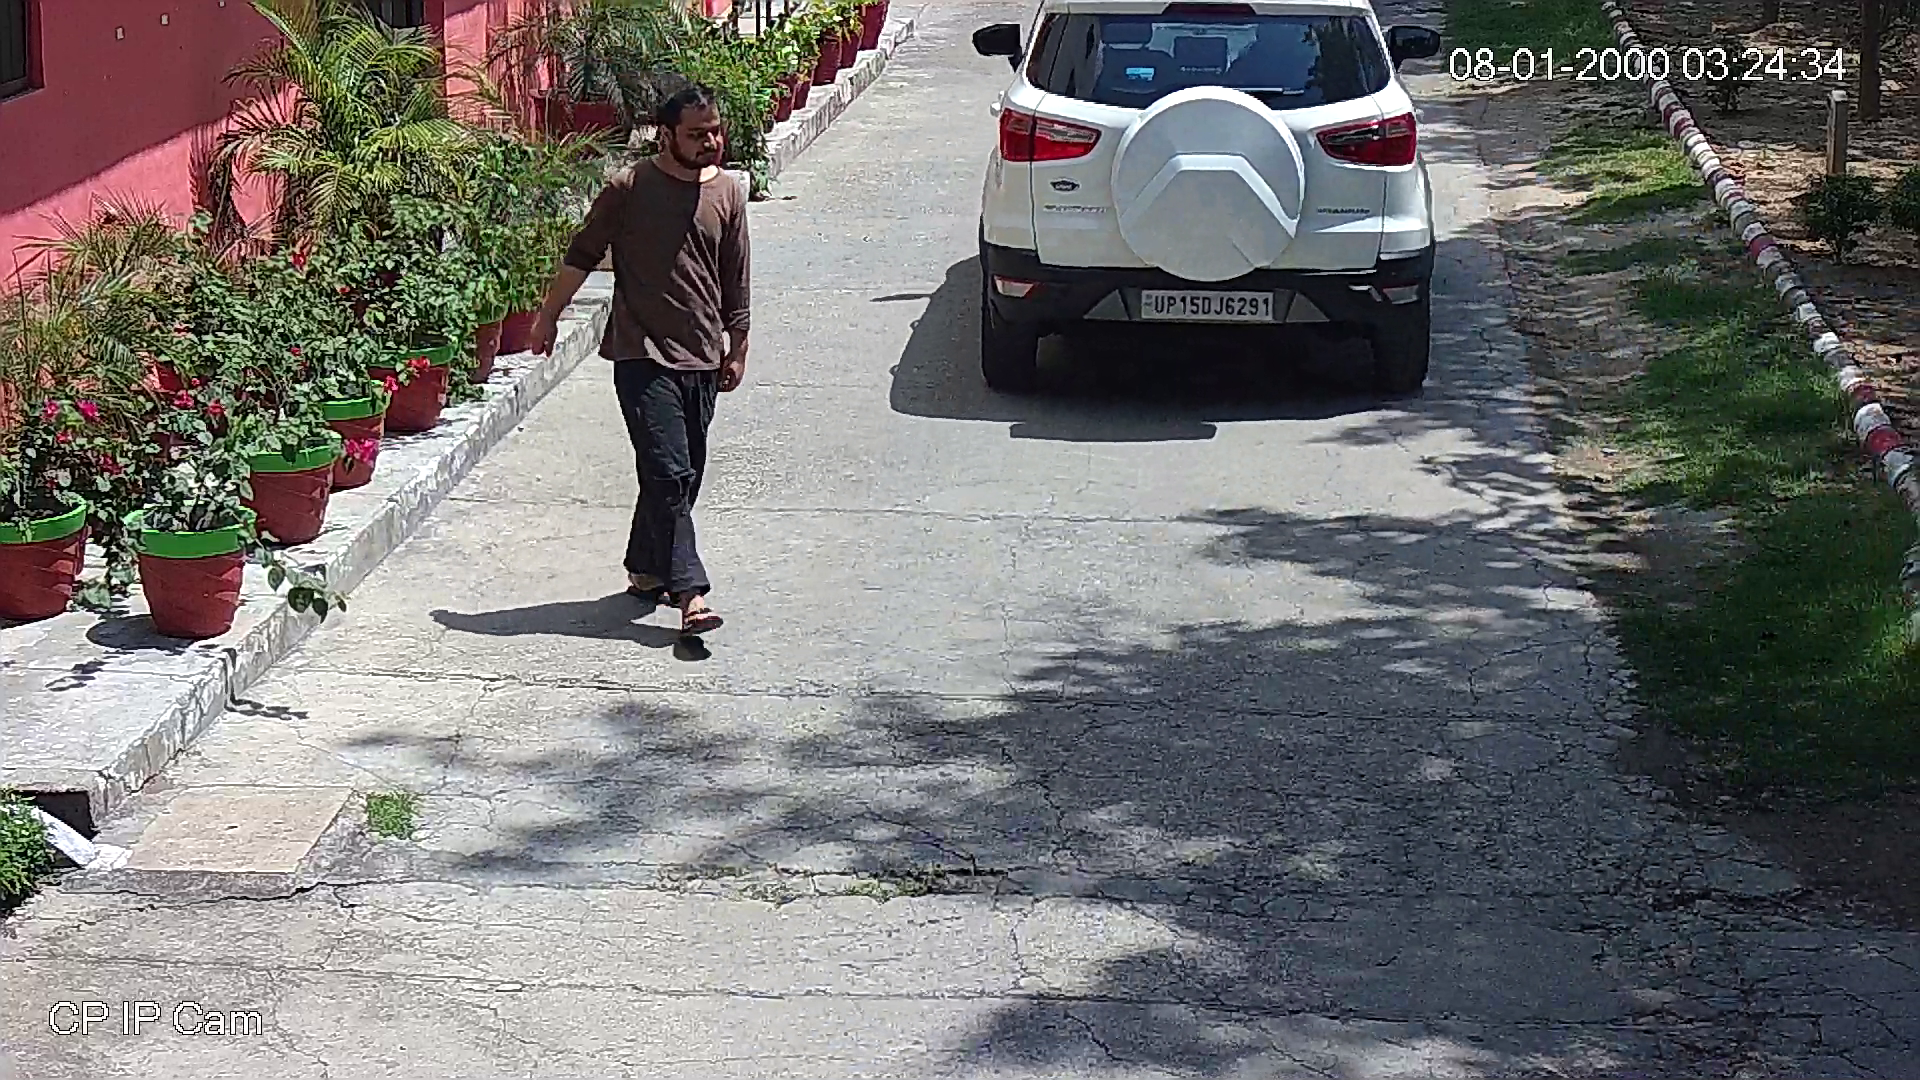plate: (1135, 285, 1276, 323)
